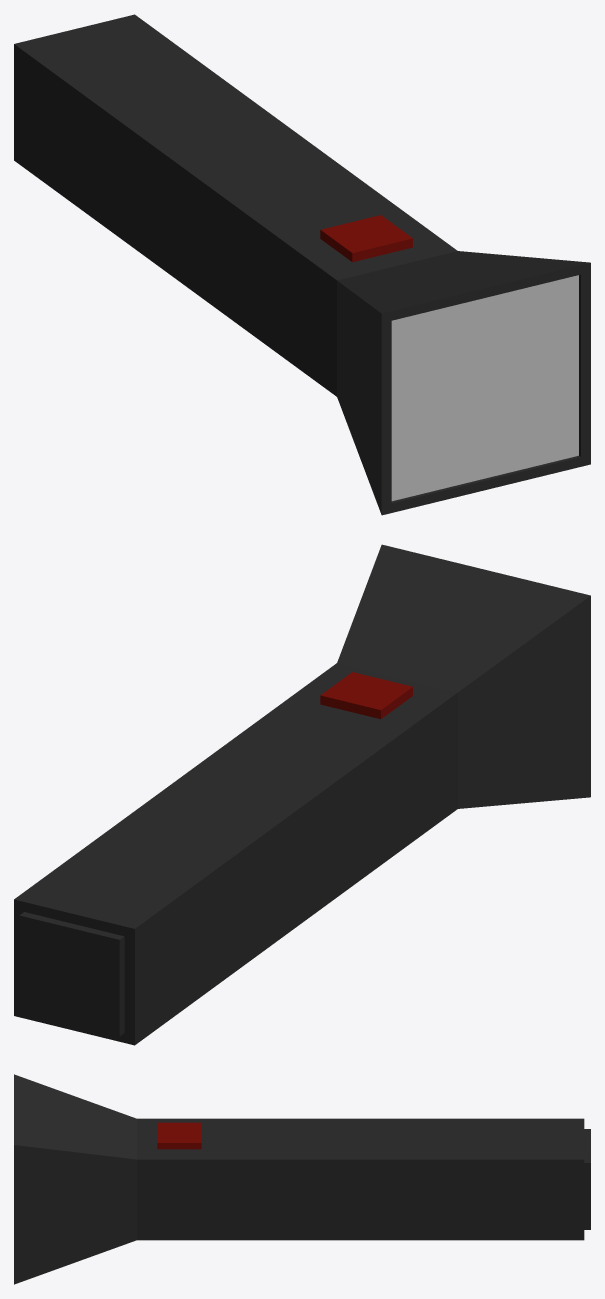
Rendered from Torch.fbx.
The picture shows the model from 3 angles, top to bottom: view 1: azimuth 30°, elevation 25°; view 2: azimuth 150°, elevation 25°; view 3: azimuth 270°, elevation 25°; orthographic projection. The views are drawn at different scales.
Visible parts, largest first — view 1: Torch Base, Lens, Button; view 2: Torch Base, Button; view 3: Torch Base, Button.
Part boxes in pixels (x1,y1,x2,y2): Torch Base: (14,14,590,515); Lens: (391,275,578,501); Button: (320,215,412,262); Torch Base: (14,544,590,1045); Button: (320,672,412,719); Torch Base: (14,1074,590,1284); Button: (157,1122,201,1149).
Bounding box in the file's own units: 19.03 × 17.53 × 65.63.
